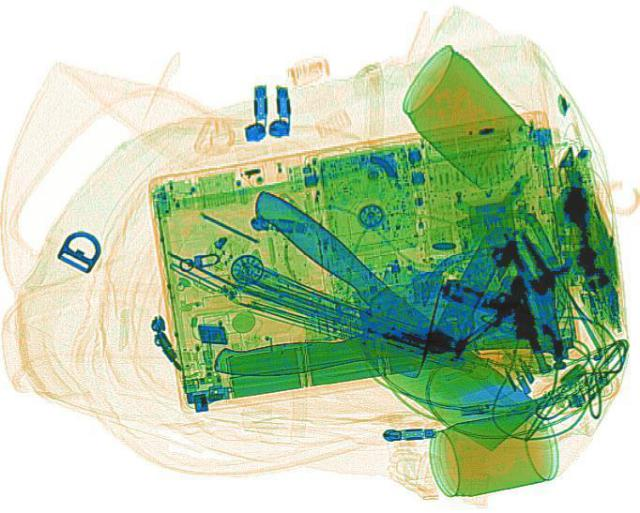Knife: (206, 178, 548, 455), (202, 264, 570, 384)
